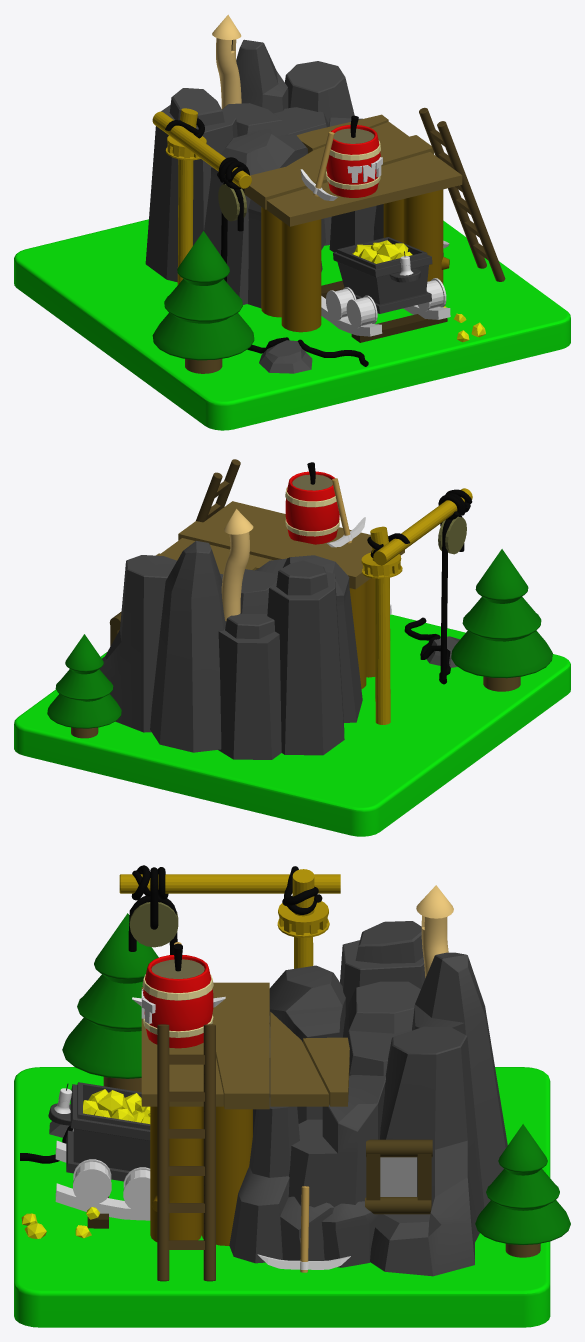
Rendered from fixedagain.fbx.
3 renders of one model, top to bottom at view 1: azimuth 30°, elevation 25°; view 2: azimuth 150°, elevation 25°; view 3: azimuth 270°, elevation 25°, orthographic. The views are drawn at different scales.
Visible parts, largest first — view 1: Base, Woodtop, Treegreen2, Rocks3, Rock1, Log1 (×2), Log2, Minecart, Cranepole1, Ladder, Rocks2, Rocks5 (+16 smaller); view 2: Base, Rocks5, Rocks3, Rocks6, Treegreen2, Rocks2, Woodtop, Cranepole1, Treegreen, Rock1, polySurface36, polySurface20 (+9 smaller); view 3: Base, Rocks2, Woodtop, Ladder, Treegreen2, Rocks5, Rocks7, Rocks4, Treegreen, Cranepole1, Minecart, Rocks1 (+20 smaller).
Boxes of the visible parts, x1,y1,x2,y2 form: Base: [14, 219, 570, 430]; Woodtop: [244, 114, 462, 226]; Treegreen2: [152, 231, 254, 360]; Rocks3: [145, 88, 237, 282]; Rock1: [204, 131, 322, 304]; Log1 (×2): [261, 189, 449, 317]; Log2: [281, 219, 321, 332]; Minecart: [333, 237, 432, 313]; Cranepole1: [152, 108, 251, 284]; Ladder: [419, 107, 505, 281]; Rocks2: [285, 61, 354, 245]; Rocks5: [236, 39, 325, 249]; Base: [14, 614, 570, 836]; Rocks5: [150, 541, 226, 752]; Rocks3: [267, 560, 344, 755]; Rocks6: [218, 613, 281, 759]; Treegreen2: [451, 549, 552, 678]; Rocks2: [99, 555, 176, 732]; Woodtop: [156, 501, 404, 589]; Cranepole1: [361, 488, 472, 724]; Treegreen: [47, 634, 121, 728]; Rock1: [255, 555, 362, 722]; polySurface36: [285, 471, 339, 544]; polySurface20: [221, 509, 253, 621]; Base: [14, 1067, 550, 1327]; Rocks2: [370, 1026, 484, 1276]; Woodtop: [141, 982, 349, 1109]; Ladder: [157, 1024, 215, 1281]; Treegreen2: [62, 913, 158, 1078]; Rocks5: [412, 952, 507, 1207]; Rocks7: [288, 1075, 385, 1207]; Rocks4: [229, 1097, 299, 1263]; Treegreen: [475, 1124, 570, 1244]; Cranepole1: [119, 869, 340, 968]; Minecart: [48, 1082, 150, 1181]; Rocks1: [343, 981, 420, 1076].
Size of the model in its own units: 14.16 by 9.85 by 14.23.
